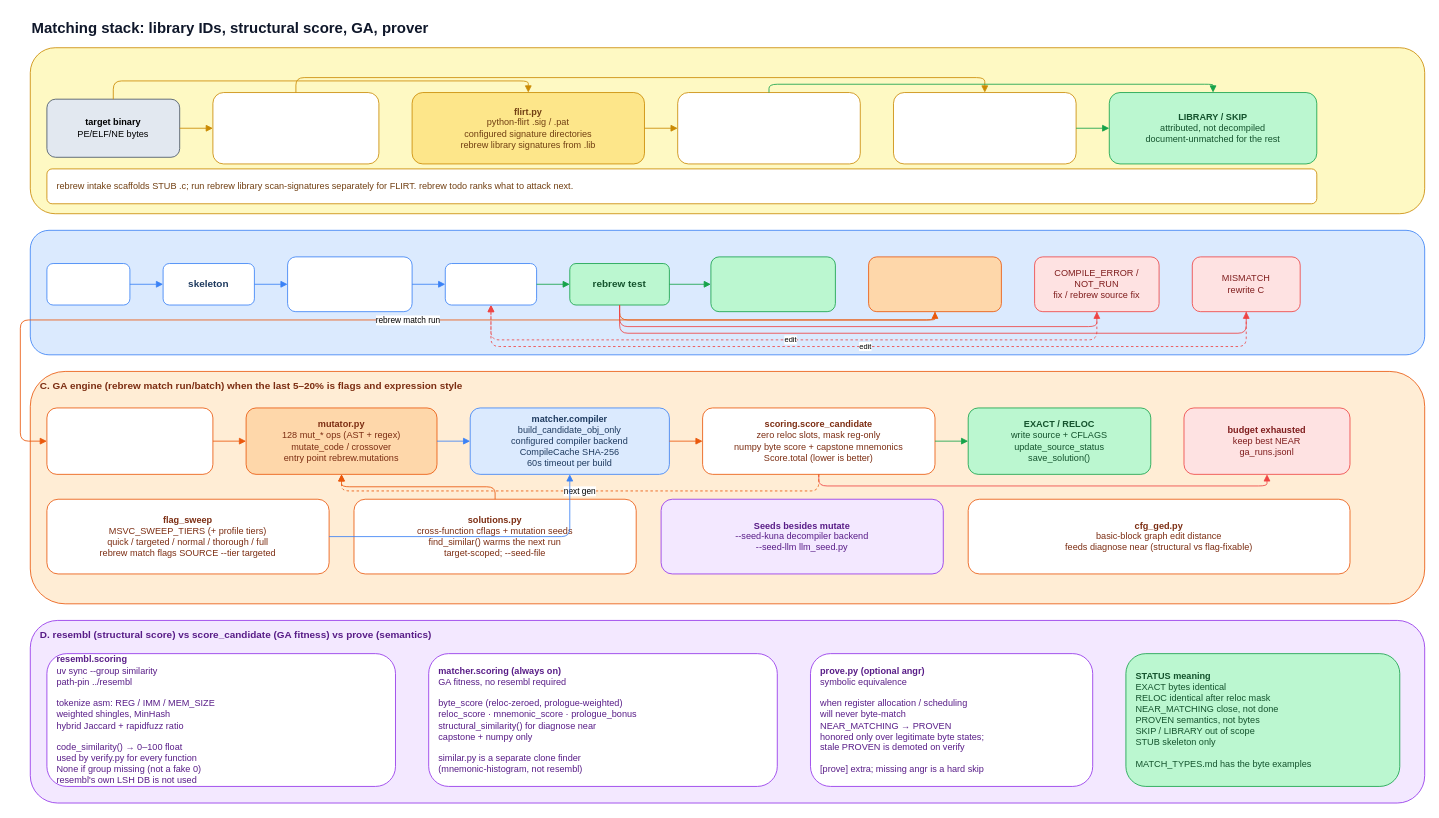
Image size: 1439x818. Some labels were removed from this diagram. Each missing label, with the box of its shape:
A. Library identification (run separately from intake): (29, 47, 1425, 214)
B. Per-function iteration (rebrew-workflow / rebrew-matching skills): (29, 229, 1425, 355)
catalog FunctionEntry registry SIZE / names / coverage grid: (893, 92, 1076, 164)
decomp seed Ghidra / kuna / r2: (287, 256, 412, 312)
discover.py rebrew.discoverers plugins (rizin / capstone / NE / MZ packaged): (212, 92, 379, 164)
EXACT / RELOC STATUS written: (710, 256, 835, 312)
identify_library.py CRT / zlib backends crt_match.py source xref: (677, 92, 860, 164)
NEAR_MATCHING diff / diagnose near: (868, 256, 1001, 312)
seed .c STUB or NEAR_MATCHING --all / --improve / --near-miss: (46, 407, 213, 474)
todo: (46, 263, 130, 305)
write C89: (444, 263, 537, 305)
